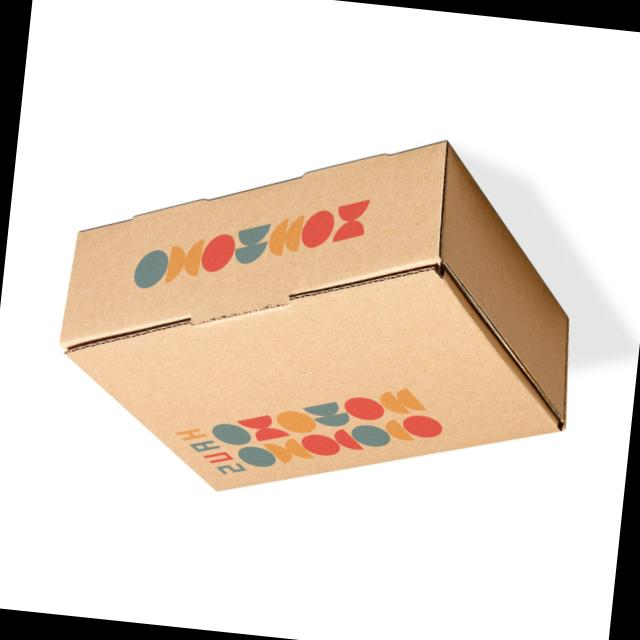Pathole: (34, 98, 611, 535)
